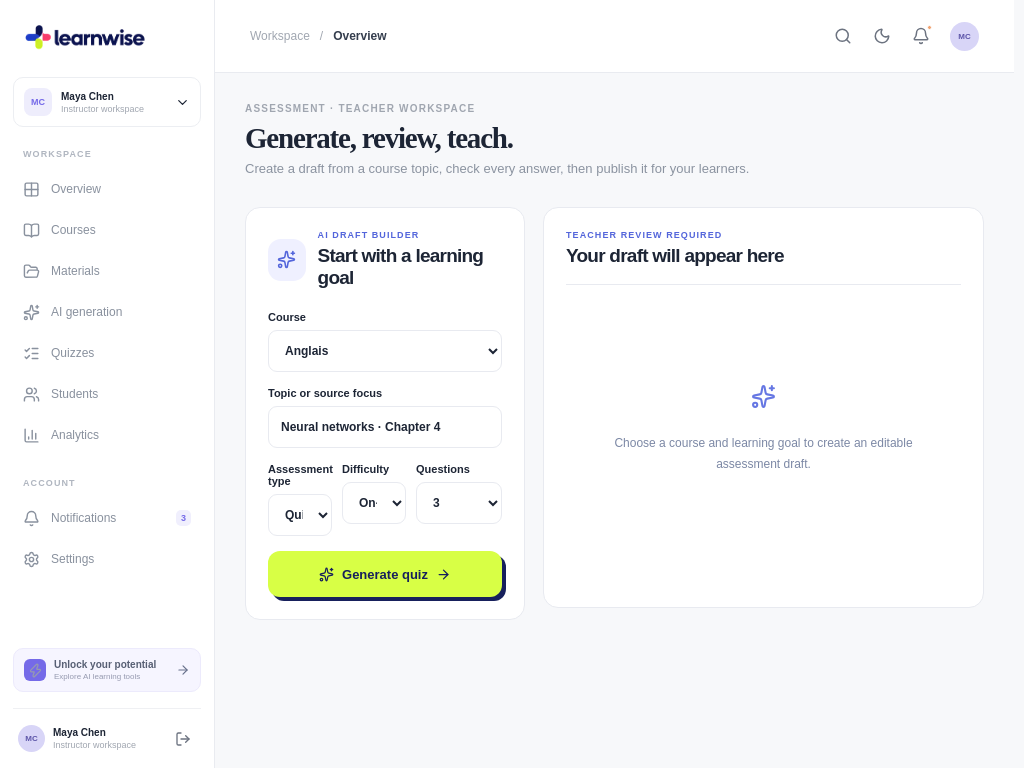
Test case: teacher assessment studio with the real backend › shows the readable error message when the generation fails
Click the button "Generate quiz" at {"x": 385, "y": 574}, box [268, 551, 502, 597]
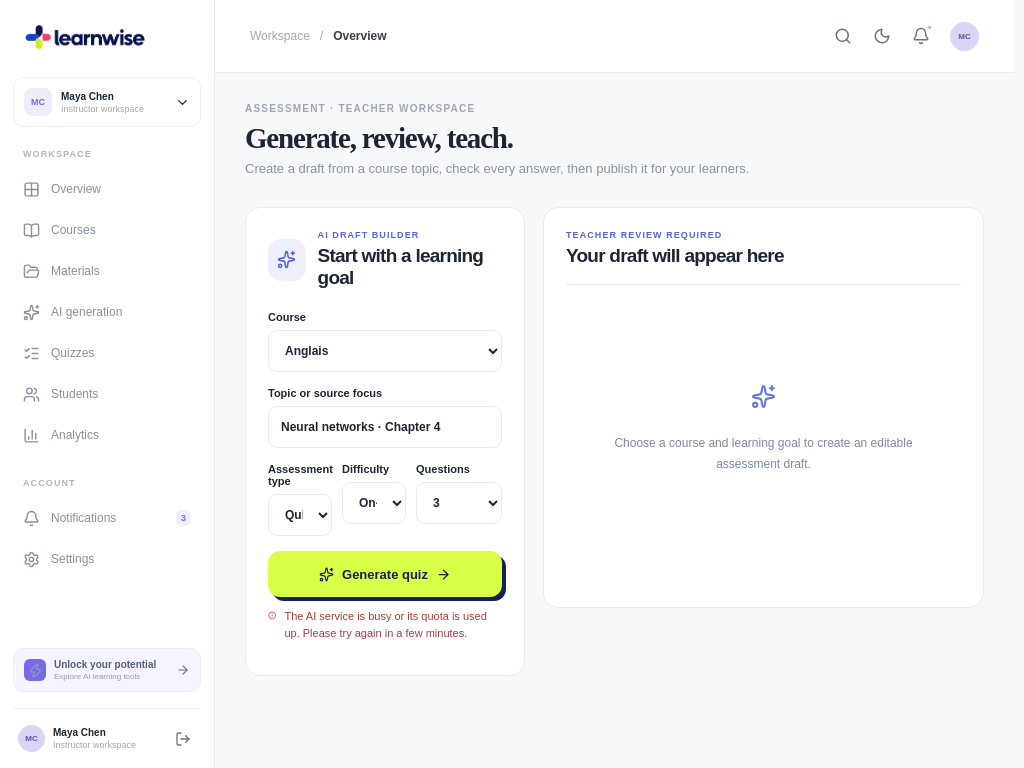
Expected: the message shows "The AI service is busy", [284, 610, 487, 639]
